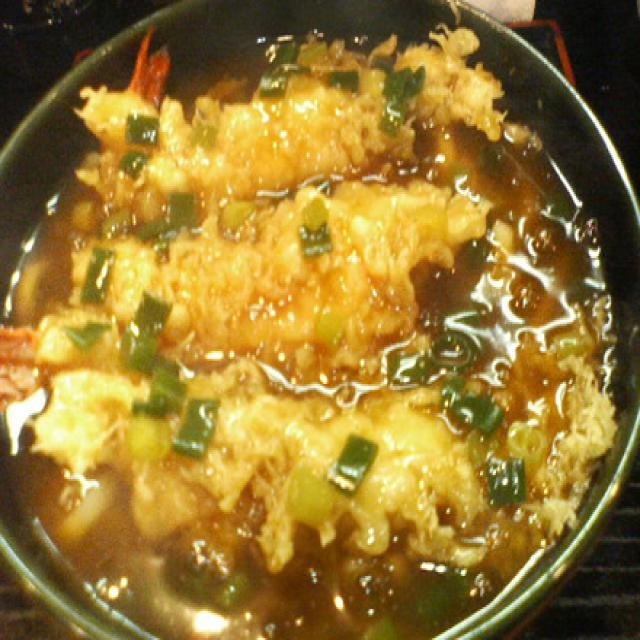面条主食: (4, 39, 611, 615)
